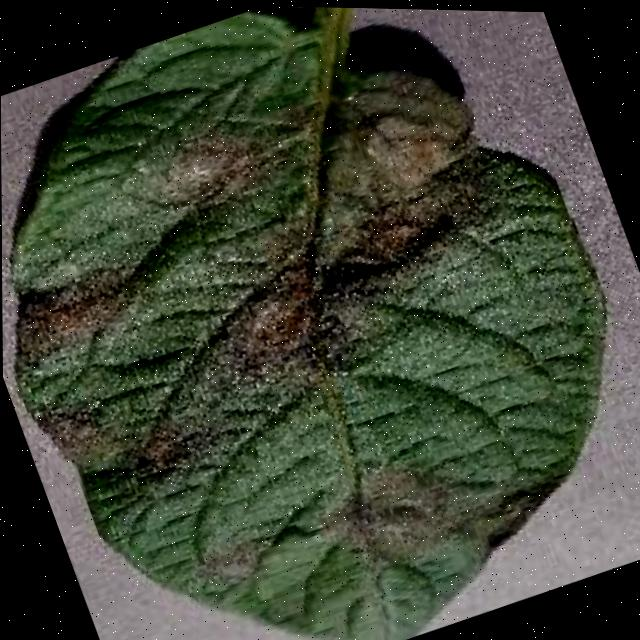Late_blight: (160, 171, 544, 446), (294, 397, 572, 609), (28, 348, 269, 546), (2, 244, 190, 399), (311, 56, 486, 222), (118, 109, 306, 257), (154, 507, 305, 633)
